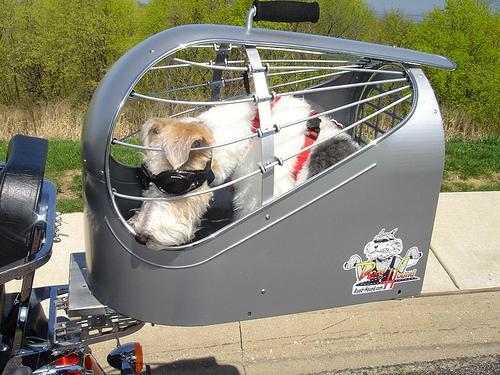wire-haired_fox_terrier: (132, 92, 368, 248)
